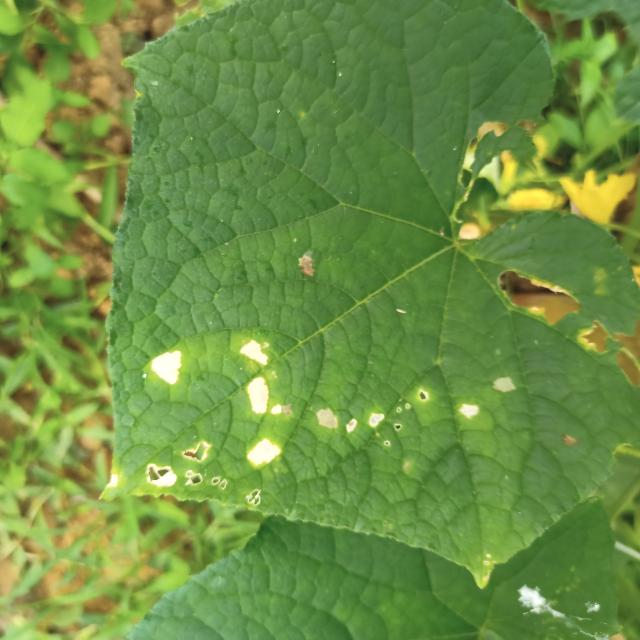disease_cucumber: (109, 324, 301, 508), (312, 352, 536, 479)
